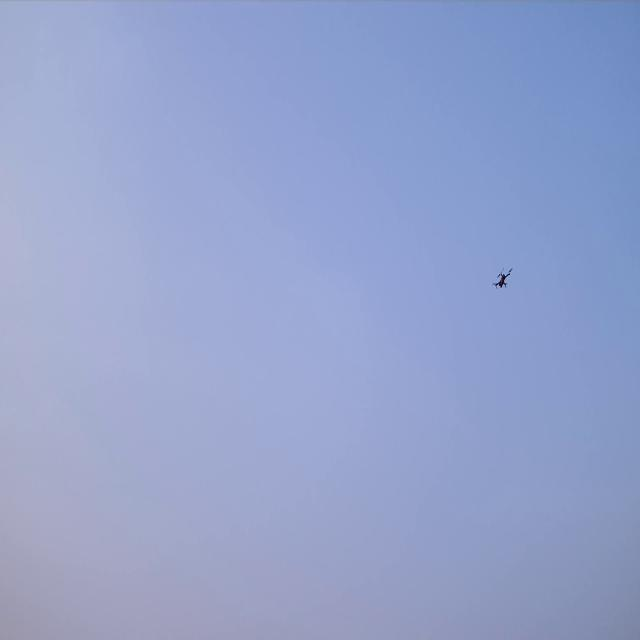UAV: (495, 270, 510, 287)
